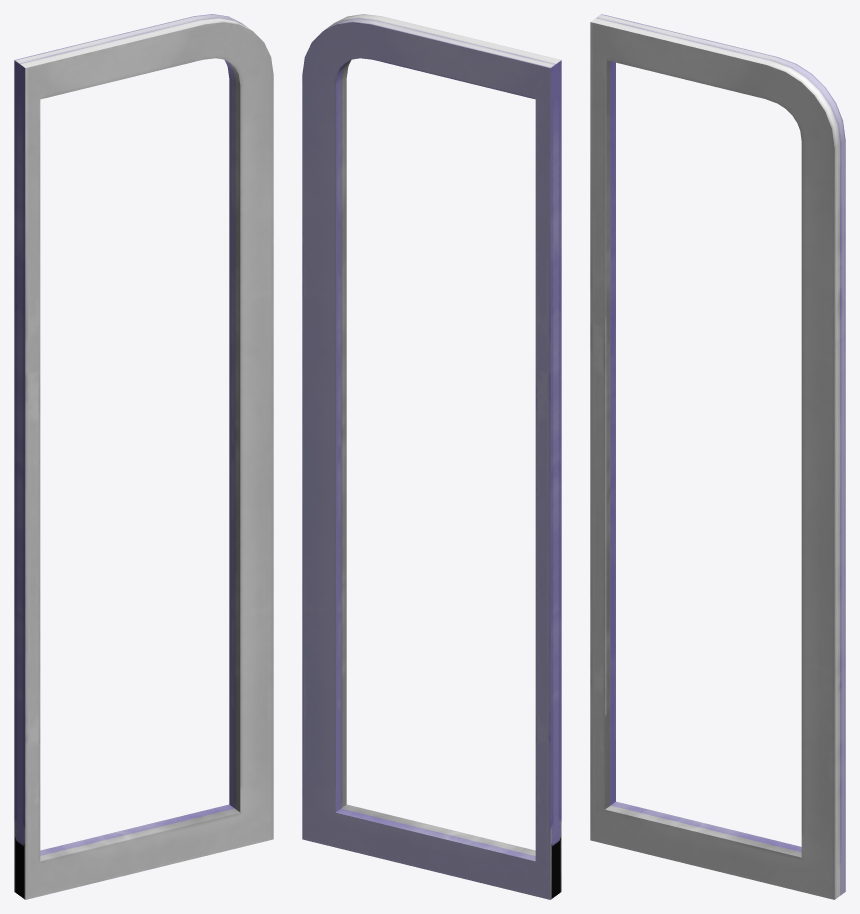
The model's file is slidingDoor2-noAlpha.glb.
3 views of the same model, side by side, from view 1: azimuth 30°, elevation 25°; view 2: azimuth 150°, elevation 25°; view 3: azimuth 330°, elevation 25° (orthographic).
Visible parts, largest first — view 1: doorR; view 2: doorR; view 3: doorR.
Part boxes in pixels (box(x1,y1,x2,y2)): doorR: box(14, 14, 273, 899); doorR: box(302, 14, 561, 899); doorR: box(590, 14, 845, 899).
Size of what is drawn, in the model's own units: 1.22 by 3.92 by 0.0958.
1 material, 1 textured.
